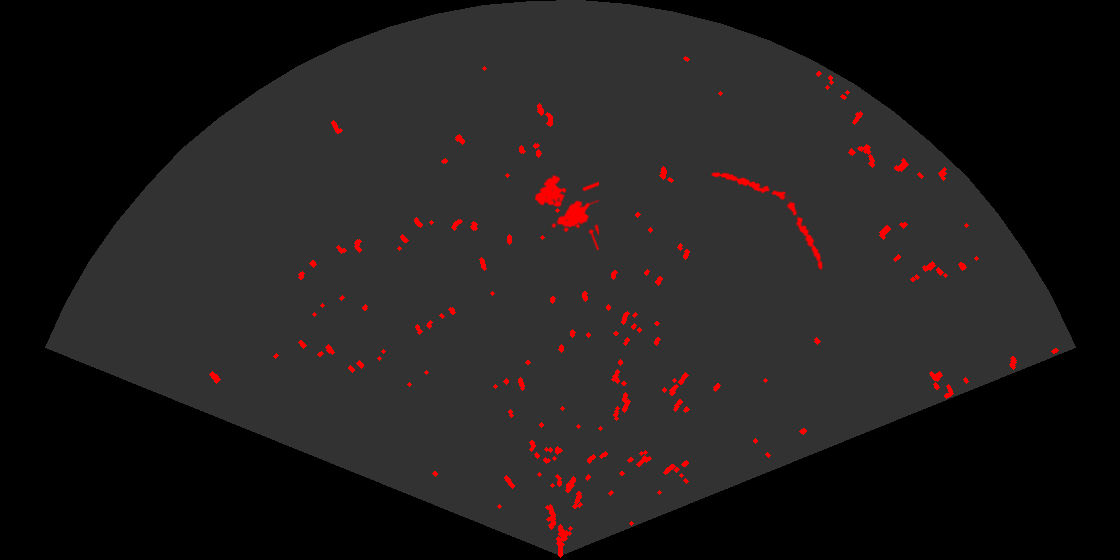cage: (533, 173, 599, 250)
chain: (783, 194, 824, 272), (709, 170, 792, 202)
